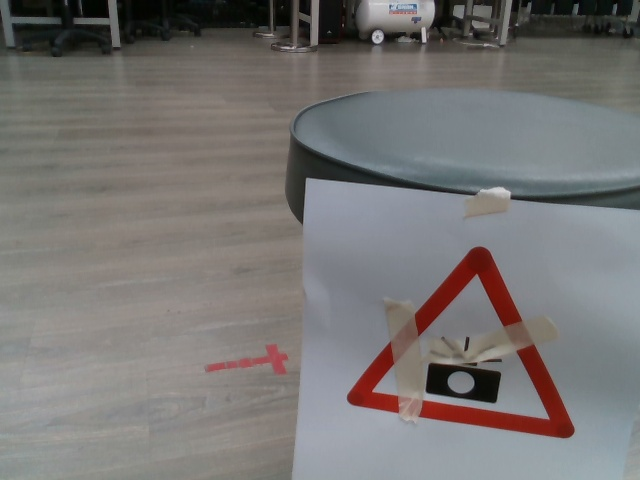camera: (345, 243, 580, 443)
